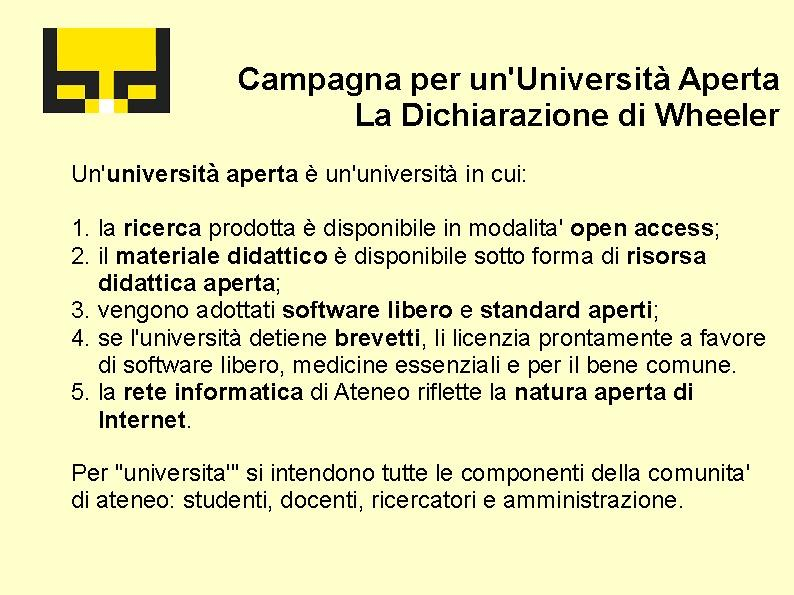paragraph: (43, 156, 781, 534)
title: (231, 57, 786, 135)
